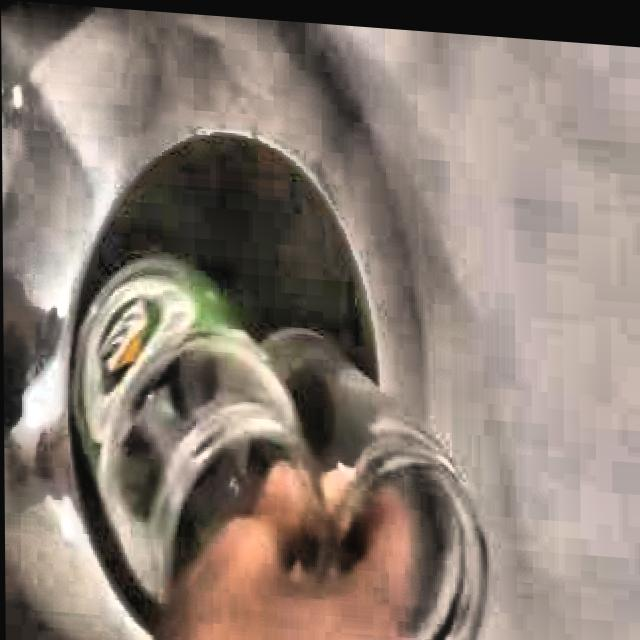glass: (72, 254, 485, 640)
